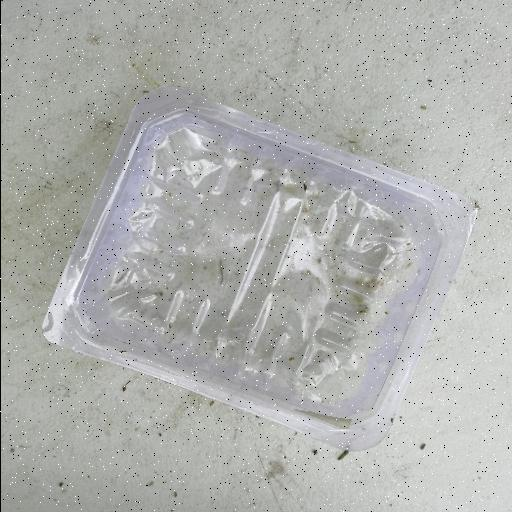Plastic: (40, 84, 477, 454)
